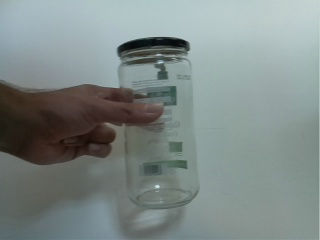pote cristal: (114, 35, 204, 212)
